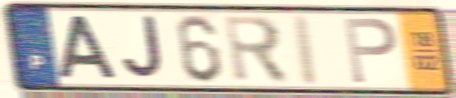6: (174, 11, 224, 87)
A: (57, 14, 121, 82)
I: (290, 12, 322, 88)
J: (120, 14, 167, 83)
P: (341, 15, 399, 86)
R: (222, 13, 292, 87)
